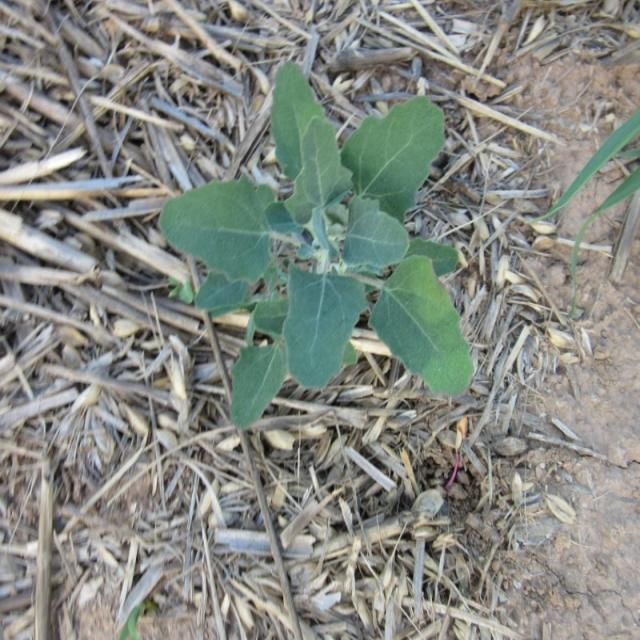ca: (164, 60, 482, 431)
